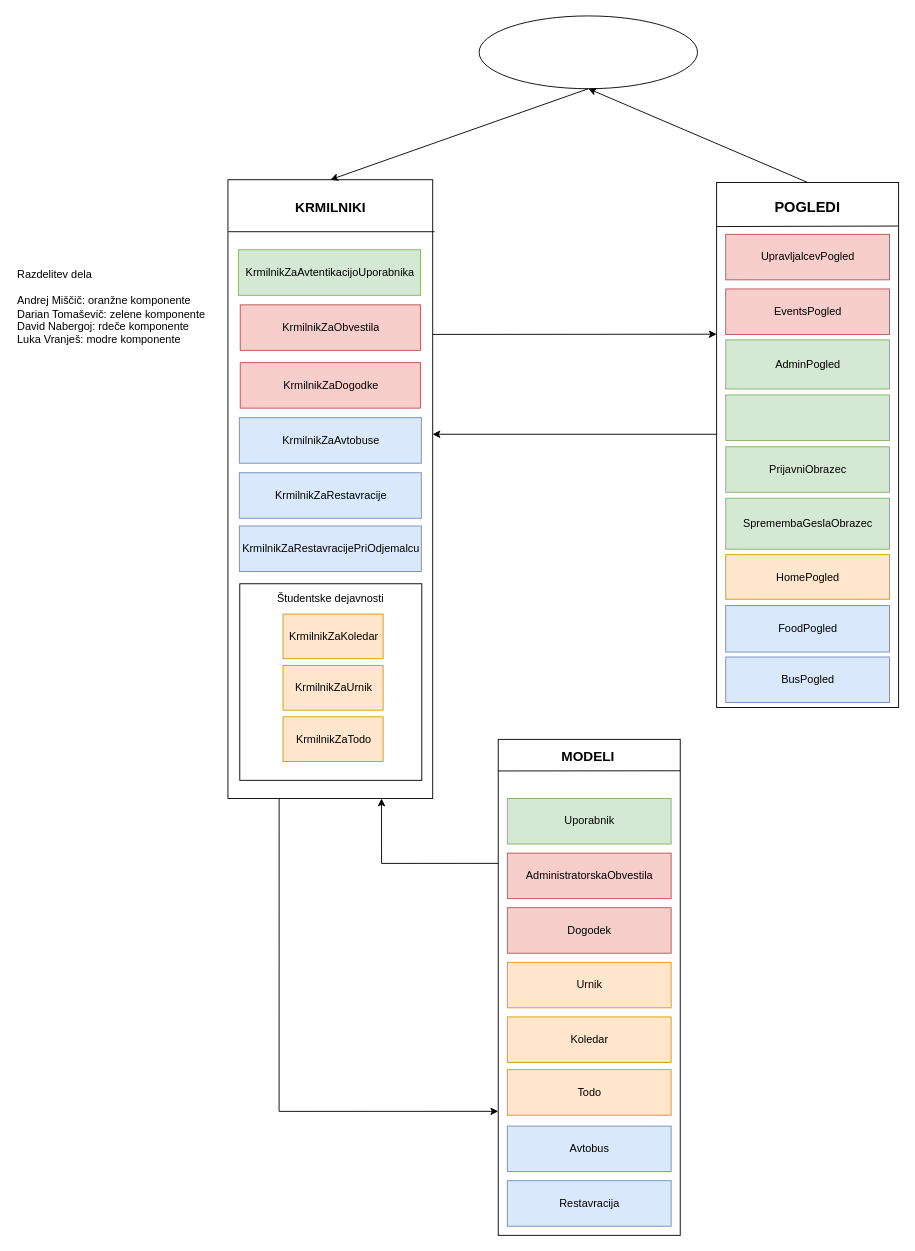
Some shapes in this 915 by 1251 pixel diagram are drawn without their labels. The shapes that lost their labels are listed below. From the top down, each one's centre as x and y in pixels, then its label:
pixel 588 52: BRSKALNIK
pixel 807 417: RegistracijskiObrazec
